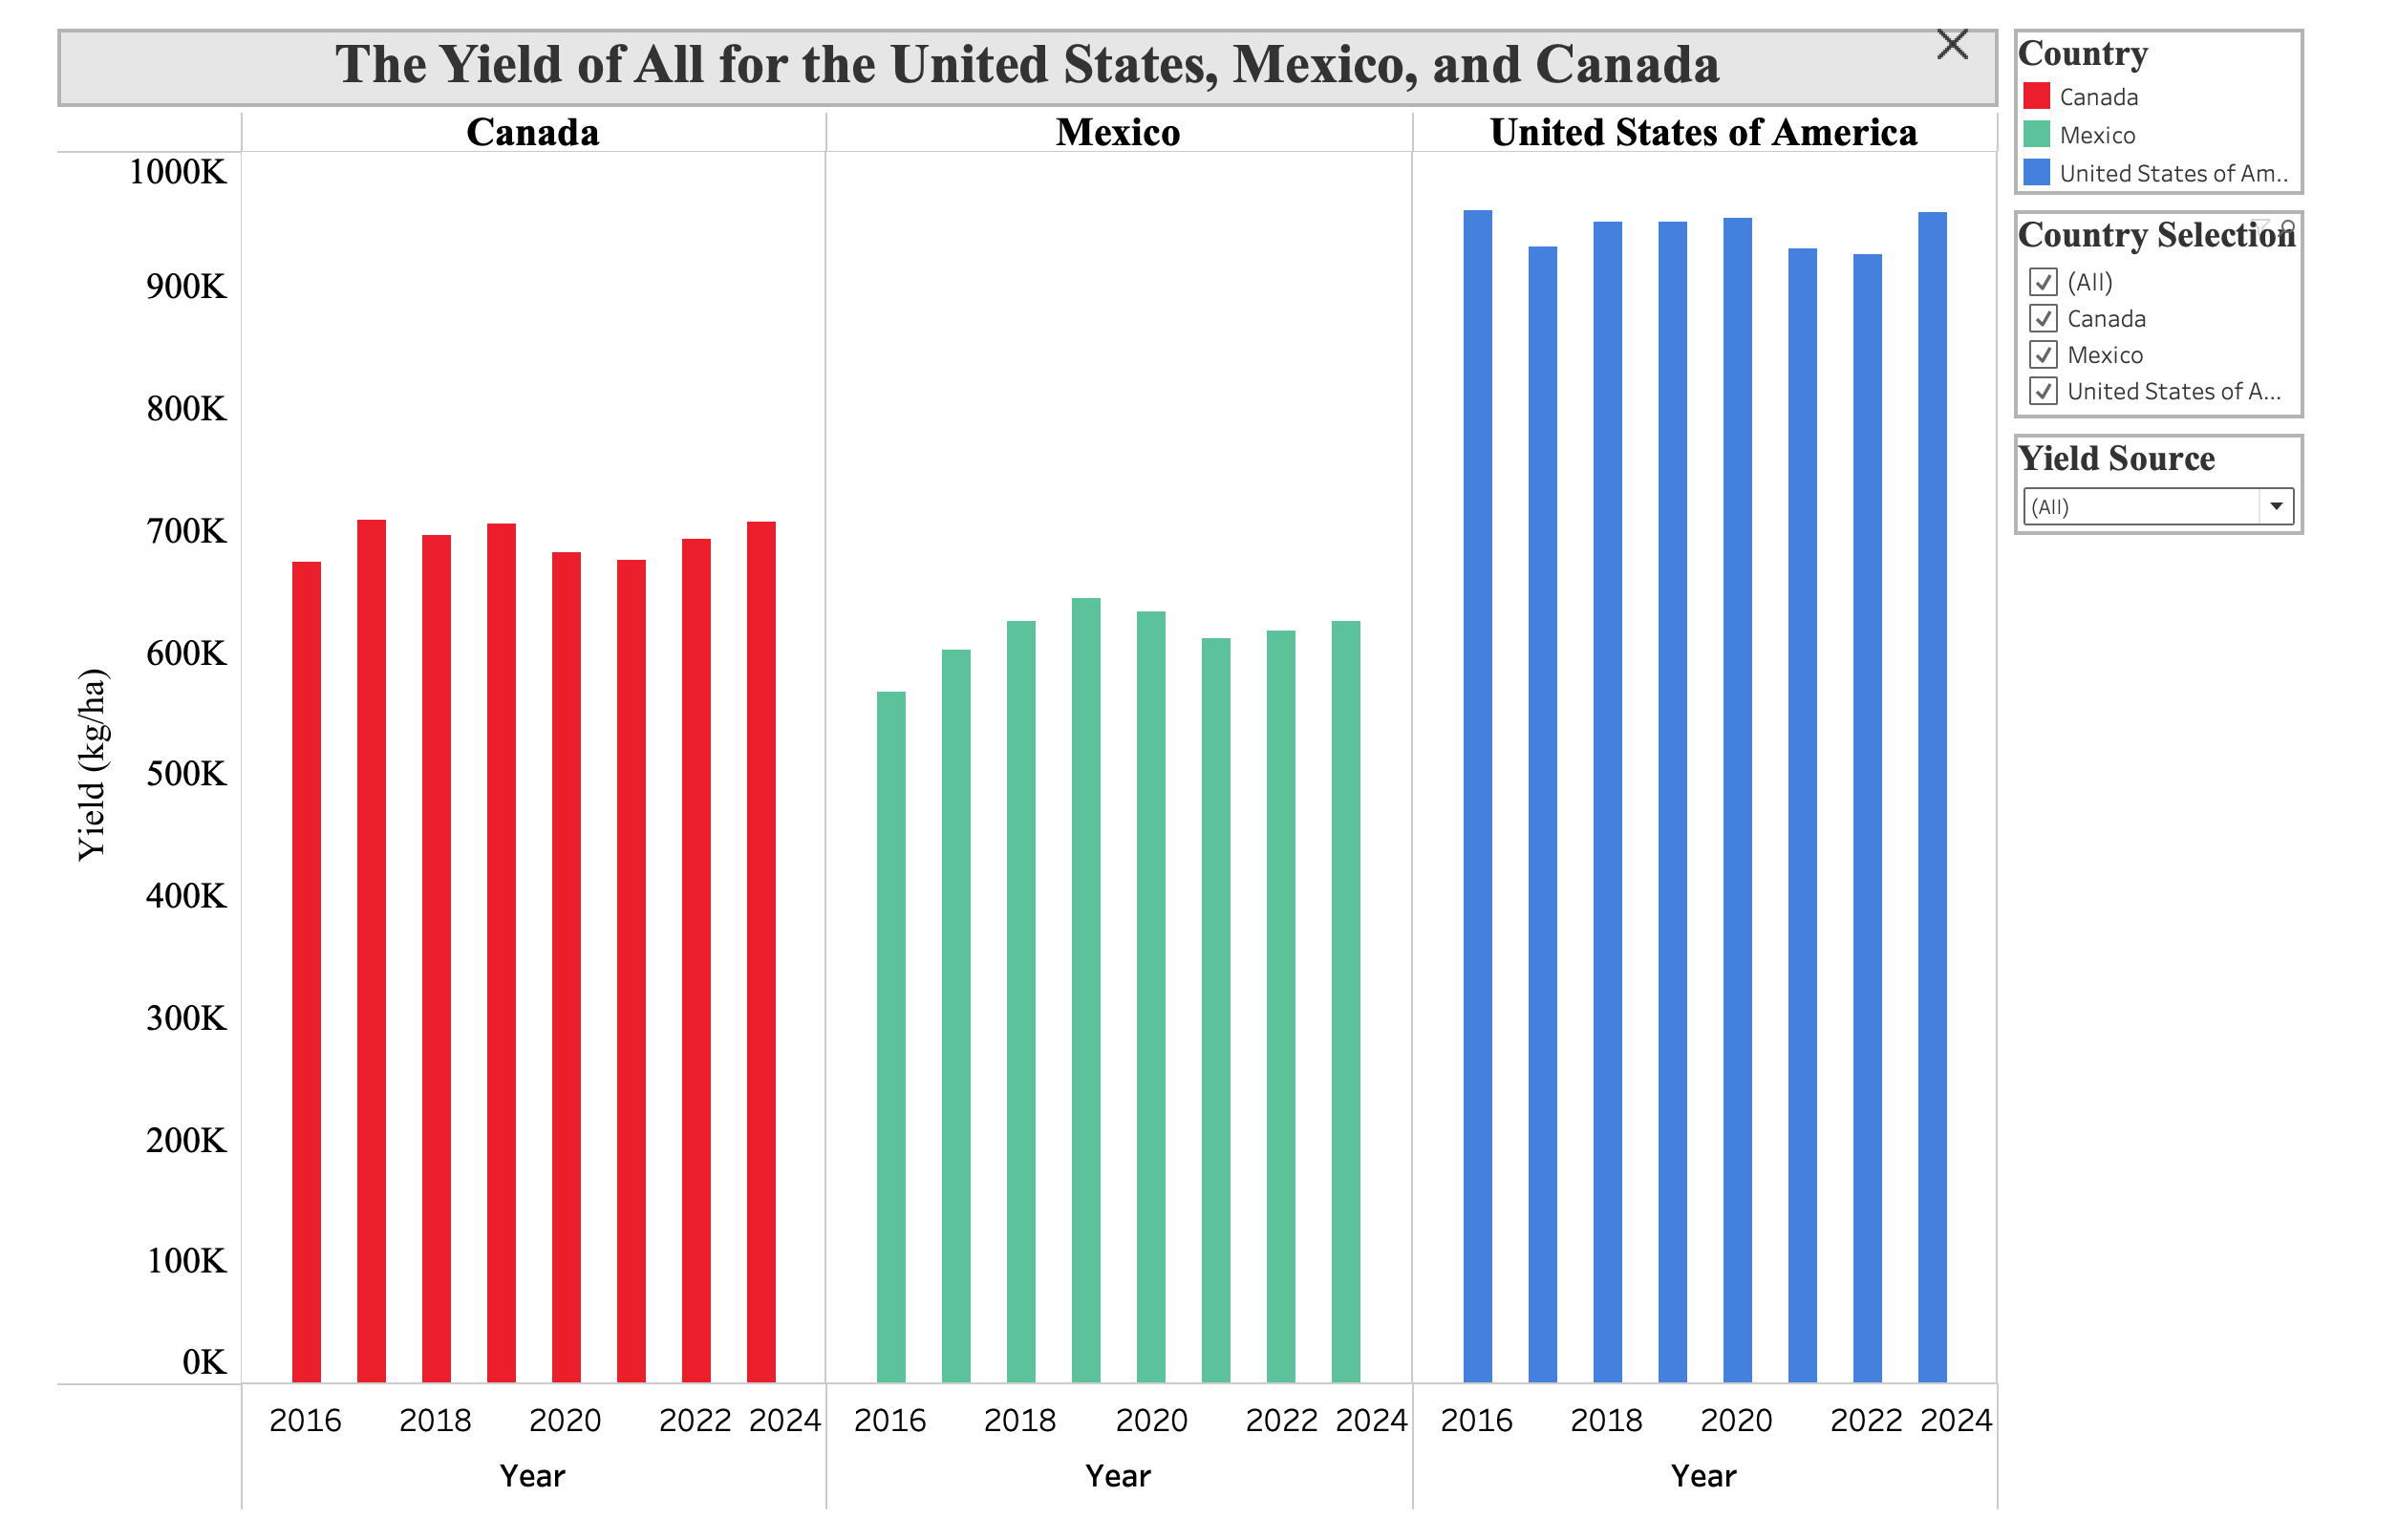

Layout of this report page (visuals, bound fields, positions):
{"tool":"tableau","page":{"name":"Dashboard 1","canvas":[1200,800],"ordinal":0},"visuals":[{"type":"worksheet","title":"yield","mark":"Bar","rows":["Value"],"cols":["Area","Year"],"box":[8,8,1024,784]},{"type":"filter","title":"yield","param":"[federated.0fg16zw1x0l6lv1b036w90icsjen].[none:area:nk]","box":[1032,8,160,108]},{"type":"filter","title":"yield","param":"[federated.0vianxe0iyll5417yi61e03wm1ru].[none:Item:nk]","box":[1032,116,160,590]},{"type":"legend","title":"yield","param":"[federated.0z5opef0cm133o11jrrv90n5jtt2].[none:Country:nk]","box":[1032,706,160,86]}]}

Visuals, with their boxes on the page's 1200x800 design canvas (x1, y1, x2, y2). These are canvas units, not pixel positions in the 2398x1540 screenshot, which may show the page scaled, cropped or inside an application window:
"yield" worksheet (Bar marks): locate(8, 8, 1032, 792)
"yield" filter: locate(1032, 8, 1192, 116)
"yield" filter: locate(1032, 116, 1192, 706)
"yield" legend: locate(1032, 706, 1192, 792)
